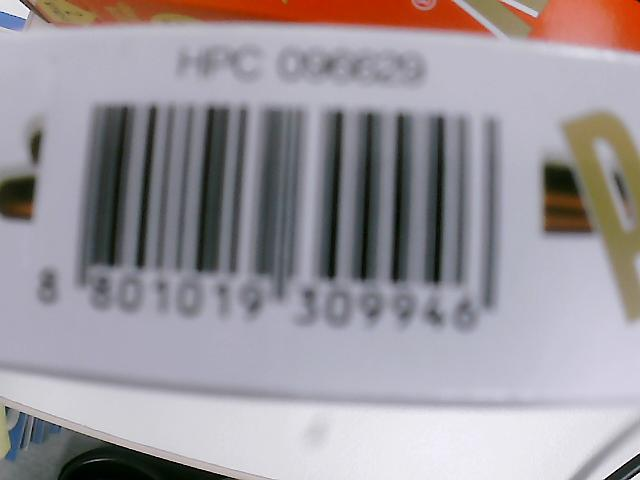whitepocky-1800-2025-8-10: (36, 85, 523, 331)
